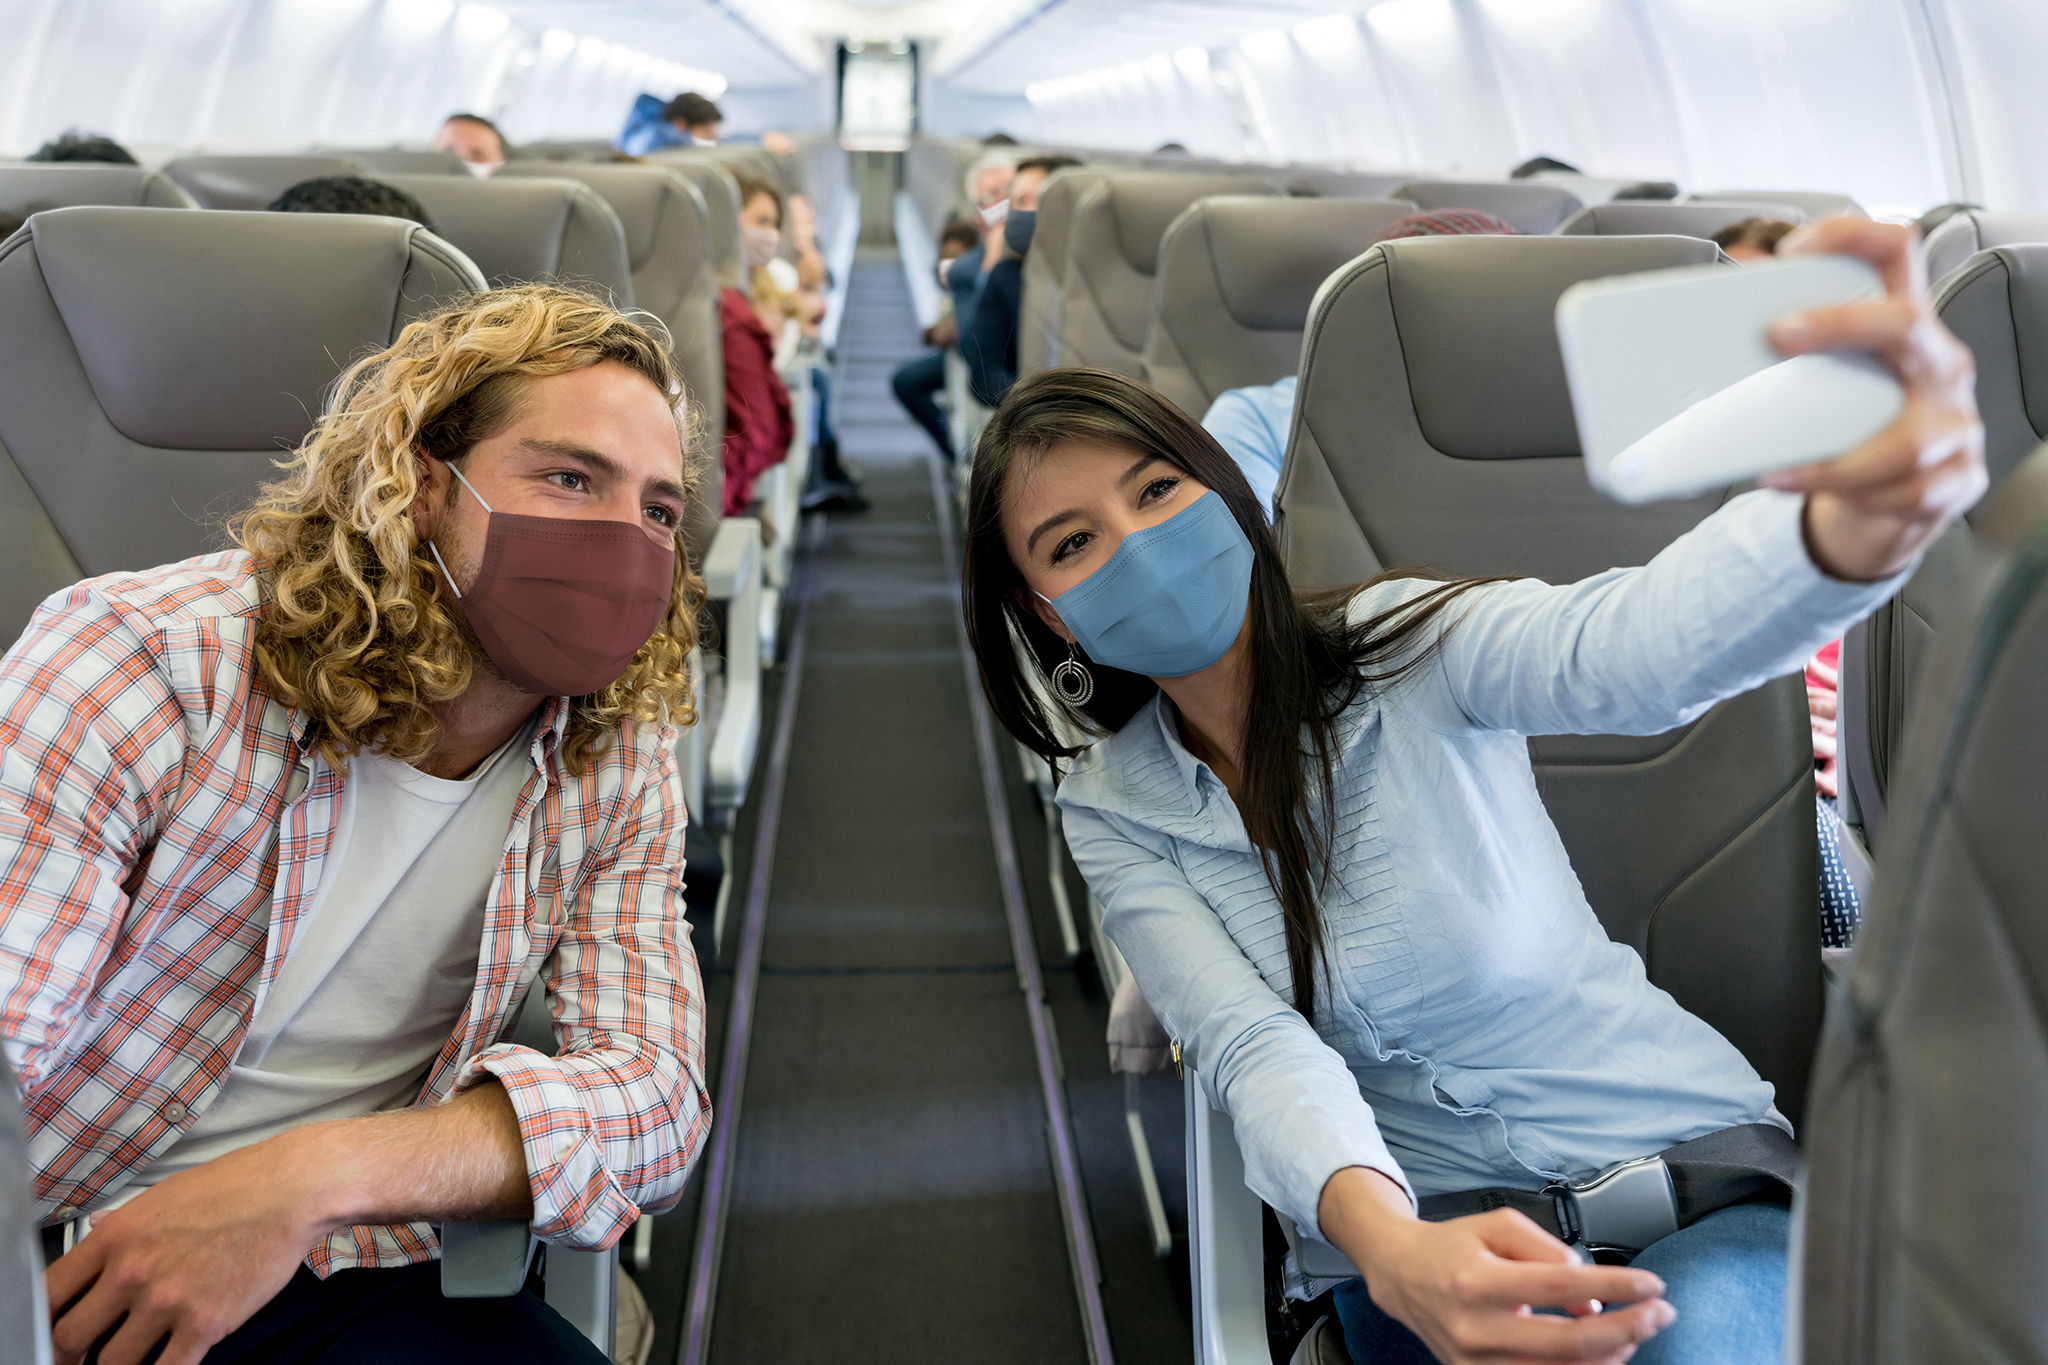with_mask: (1020, 432, 1258, 670), (484, 386, 678, 670), (1005, 174, 1052, 244), (746, 208, 779, 265)
